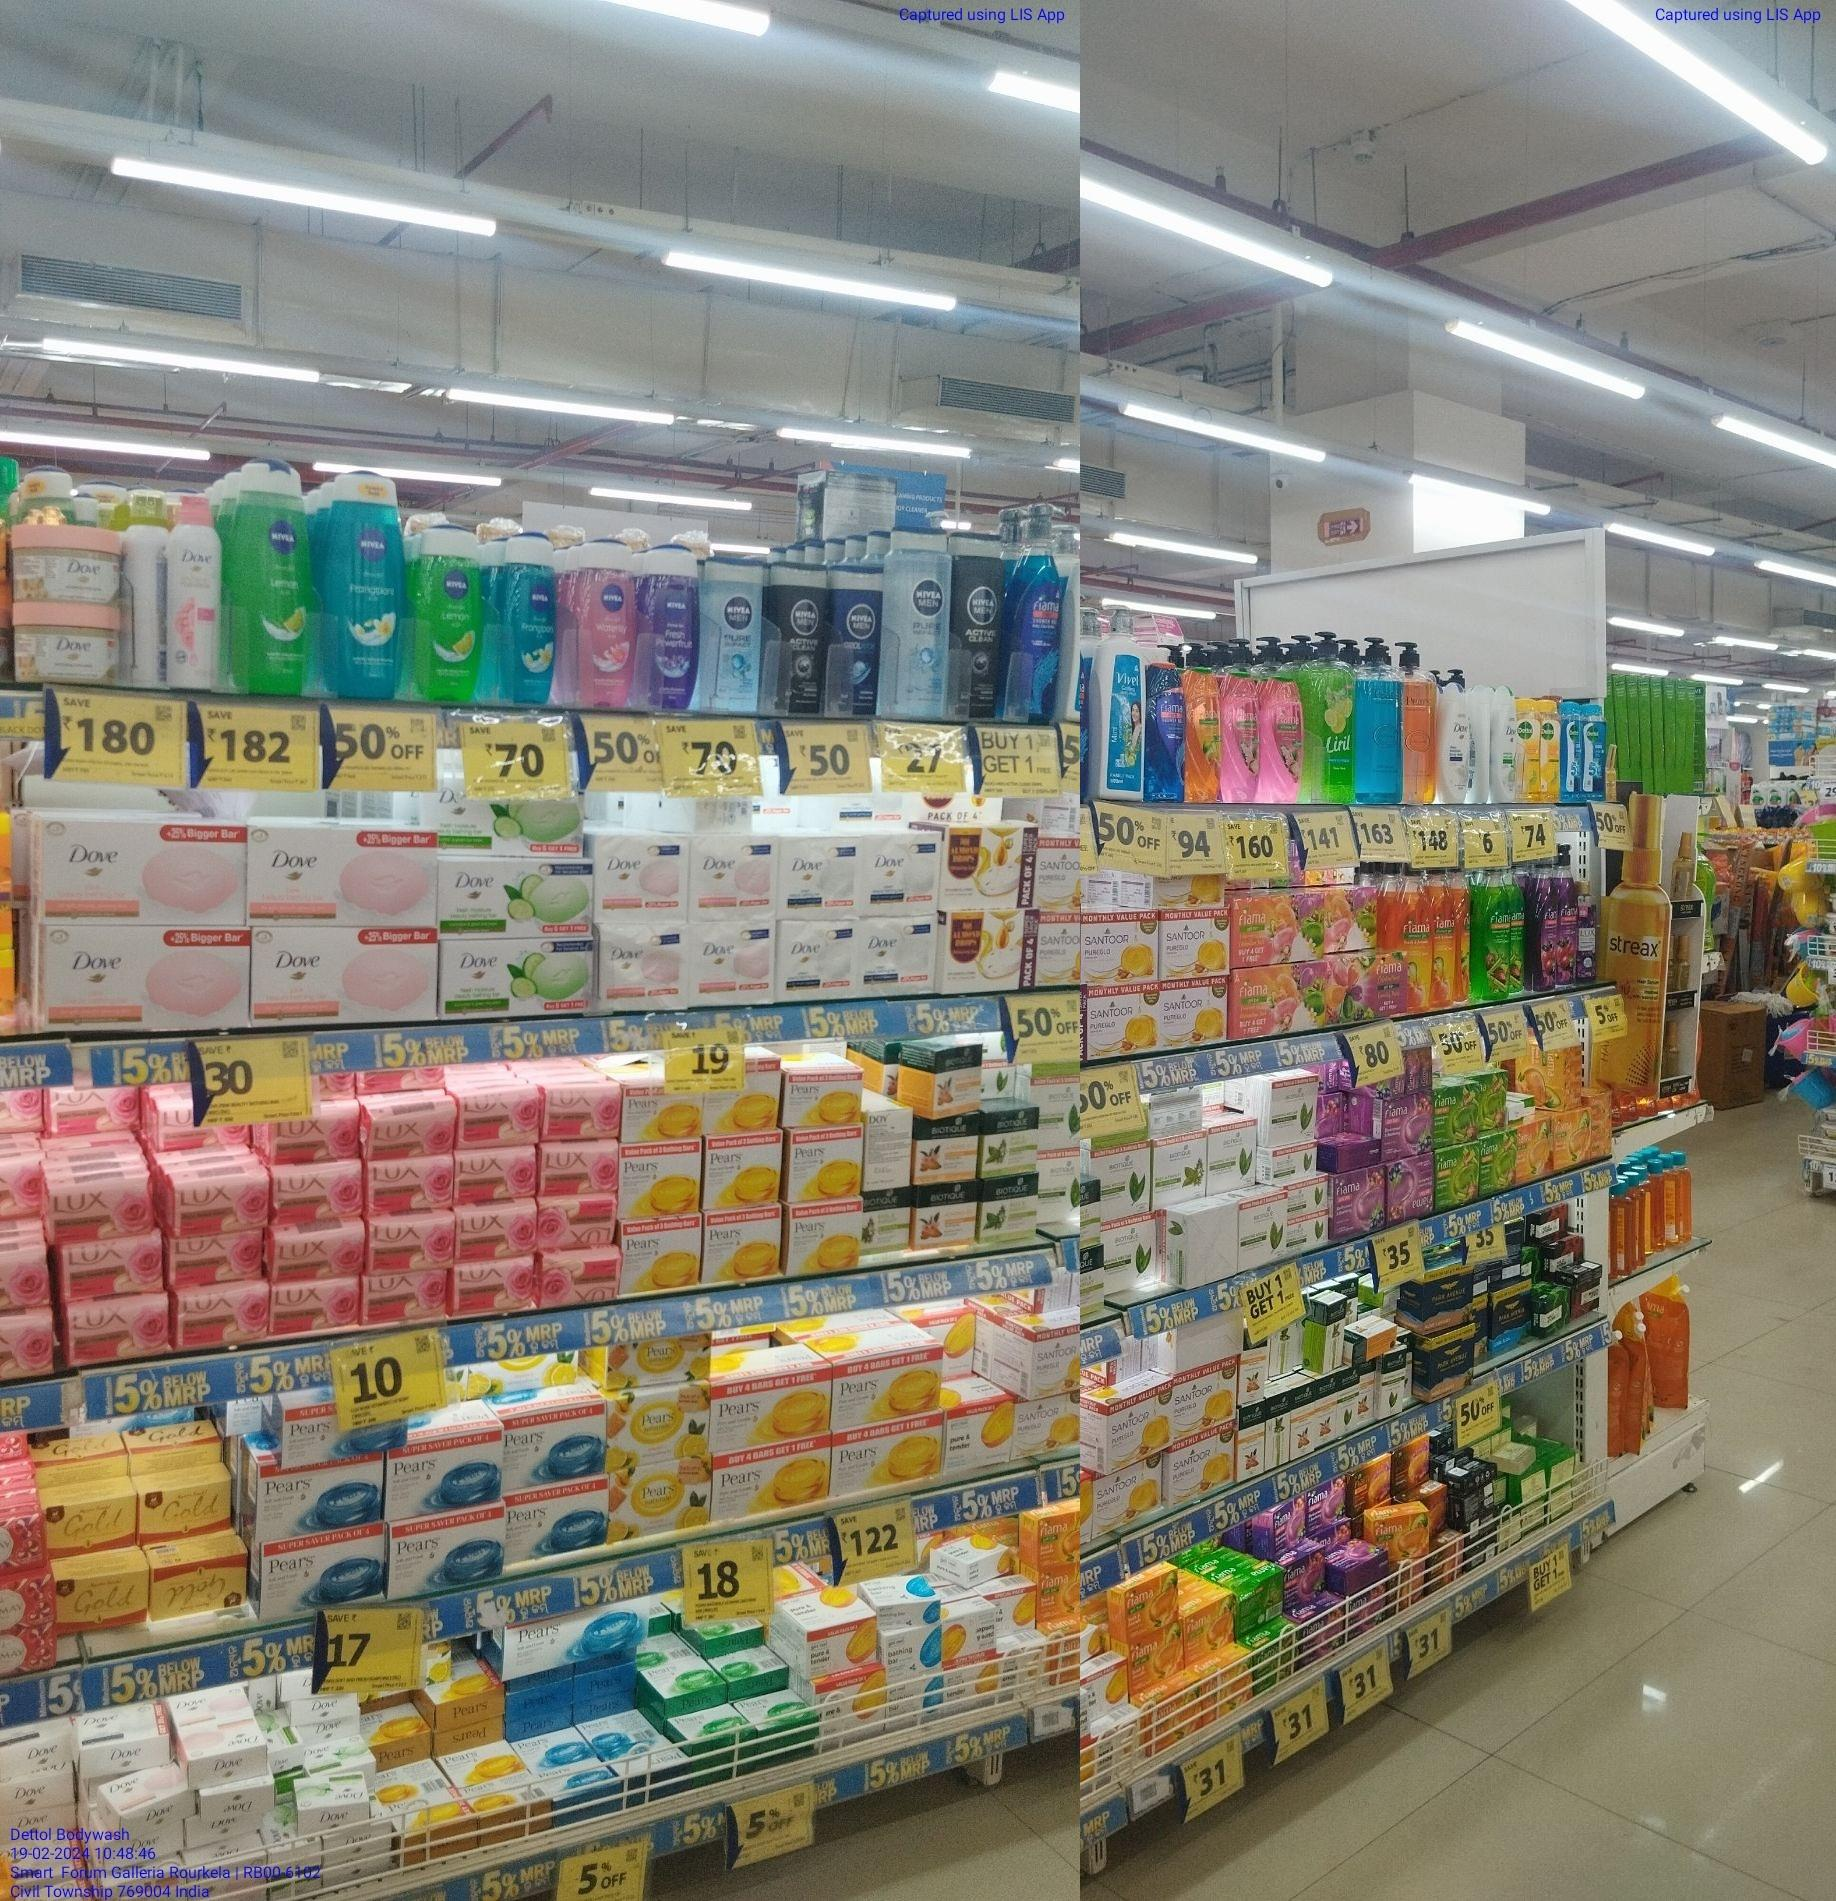Dettol_Bodywash_Cool: (1563, 701, 1583, 799), (1585, 703, 1604, 799)
Dettol_Bodywash_Refresh: (1522, 698, 1541, 803), (1542, 698, 1561, 803)
Dove_Deep_Moisture_Body_Wash_250ML: (1439, 682, 1469, 803)
Dove_Refreshing_Body_Wash_250ML: (1493, 682, 1519, 803)
Fiama_Shower_Gel_Patchouli_and_Macadamia_250ML: (1264, 669, 1303, 805), (1223, 669, 1261, 801)
Fiama_Shower_Gel_Peach_and_Avocado_250ML: (1186, 669, 1222, 801)
Lux_Black_Orchid_Scent_and_Juniper_Oil_Body_Wash_245ML: (1576, 881, 1597, 981)
Nivea_Shower_Gel_Frangipani_and_Oil_250ML: (317, 457, 414, 699), (504, 528, 557, 708)
Nivea_Shower_Gel_Fresh_Powerfruit_250ML: (648, 547, 699, 711)
Nivea_Shower_Gel_Lemon_and_Oil_250ML: (232, 455, 314, 693), (426, 524, 480, 701)
Nivea_Shower_Gel_Waterlily_and_Oil_250ML: (575, 540, 635, 708)
